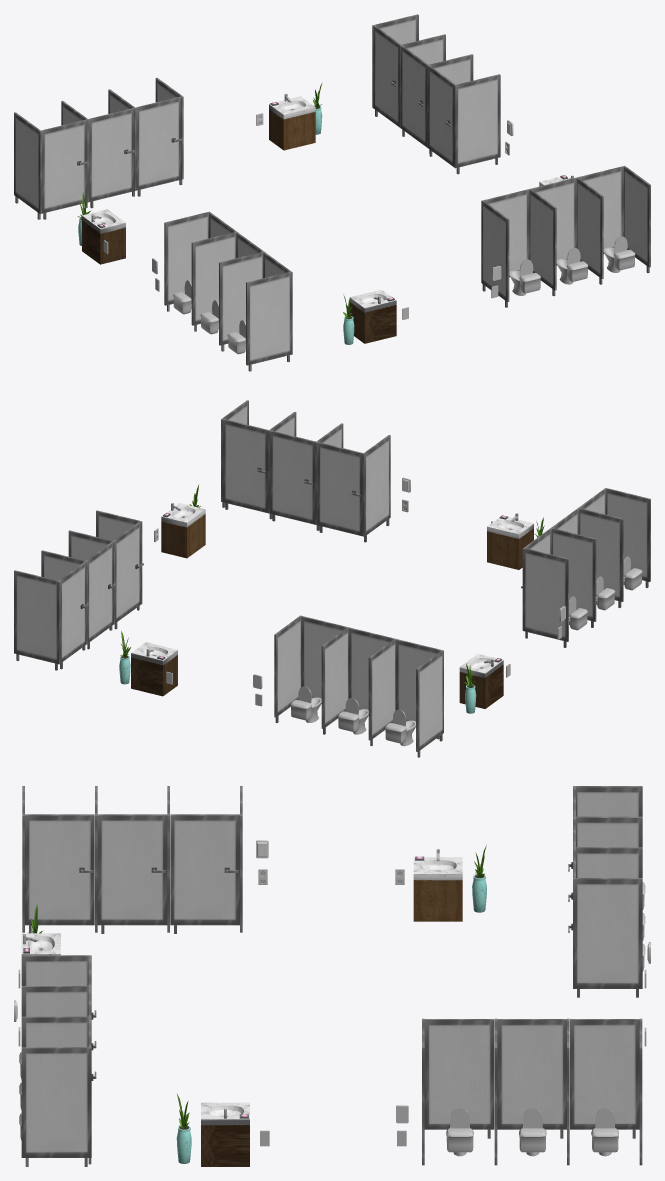
File: Room04Set0.FBX
The picture shows the model from 3 angles, top to bottom: view 1: azimuth 30°, elevation 25°; view 2: azimuth 150°, elevation 25°; view 3: azimuth 270°, elevation 25°; orthographic projection. The views are drawn at different scales.
Visible parts, largest first — view 1: TolietWall010, TolietWall021, TolietDoor013, TolietDoor012, TolietDoor011, TolietWall012, TolietWall013, TolietWall011, TolietWall014, TolietWall009, TolietWall008, TolietDoor016 (+19 smaller); view 2: TolietWall018, TolietDoor005, TolietDoor007, TolietDoor006, TolietWall013, TolietWall011, TolietWall012, TolietWall010, TolietWall009, TolietWall014, TolietWall017, TolietWall016 (+20 smaller); view 3: TolietDoor009, TolietWall006, TolietDoor010, TolietWall017, TolietDoor008, TolietDoor016, TolietDoor015, TolietDoor014, Sink013, Sink015, TolietWall007, TolietWall015 (+10 smaller).
Part boxes in pixels (x1,y1,x2,y2): TolietWall010: [246, 271, 292, 371]; TolietWall021: [454, 74, 500, 174]; TolietDoor013: [135, 96, 182, 196]; TolietDoor012: [88, 108, 135, 208]; TolietDoor011: [41, 119, 88, 219]; TolietWall012: [191, 231, 237, 331]; TolietWall013: [164, 211, 210, 311]; TolietWall011: [219, 251, 264, 351]; TolietWall014: [14, 112, 41, 219]; TolietWall009: [481, 200, 509, 307]; TolietWall008: [529, 188, 556, 296]; TolietDoor016: [428, 65, 455, 166]; TolietWall018: [14, 570, 60, 670]; TolietDoor005: [222, 419, 268, 512]; TolietDoor007: [317, 442, 363, 536]; TolietDoor006: [270, 430, 315, 524]; TolietWall013: [522, 548, 568, 647]; TolietWall011: [577, 508, 623, 607]; TolietWall012: [550, 528, 596, 627]; TolietWall010: [605, 488, 650, 587]; TolietWall009: [362, 435, 390, 542]; TolietWall014: [416, 650, 443, 757]; TolietWall017: [274, 615, 301, 722]; TolietWall016: [321, 627, 349, 734]; TolietDoor009: [97, 814, 167, 933]; TolietWall006: [21, 1047, 91, 1166]; TolietDoor010: [170, 814, 239, 933]; TolietWall017: [573, 878, 642, 997]; TolietDoor008: [25, 814, 94, 933]; TolietDoor016: [424, 1019, 494, 1138]; TolietDoor015: [497, 1019, 567, 1138]; TolietDoor014: [570, 1019, 639, 1138]; Sink013: [413, 857, 462, 921]; Sink015: [201, 1102, 249, 1166]; TolietWall007: [21, 1016, 91, 1047]; TolietWall015: [573, 816, 642, 847].
Bounding box in the file's own units: 119 × 24.74 × 120.
